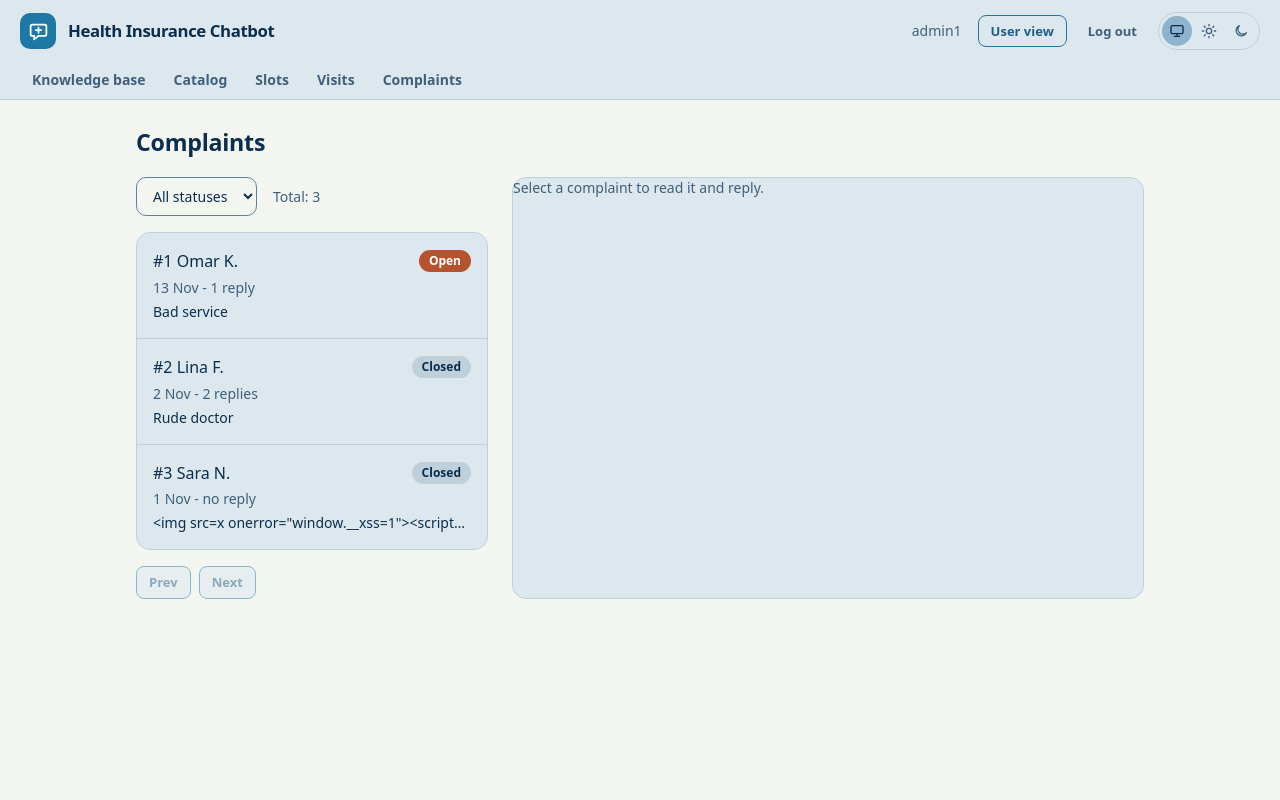
Test: AdminComplaintsPage › AP5: the detail shows the patient, the visit, the description and the reply thread
Click the button with test id "complaint-item" that starts with "Omar K.". click: click(207, 261)
box: [137, 233, 487, 338]
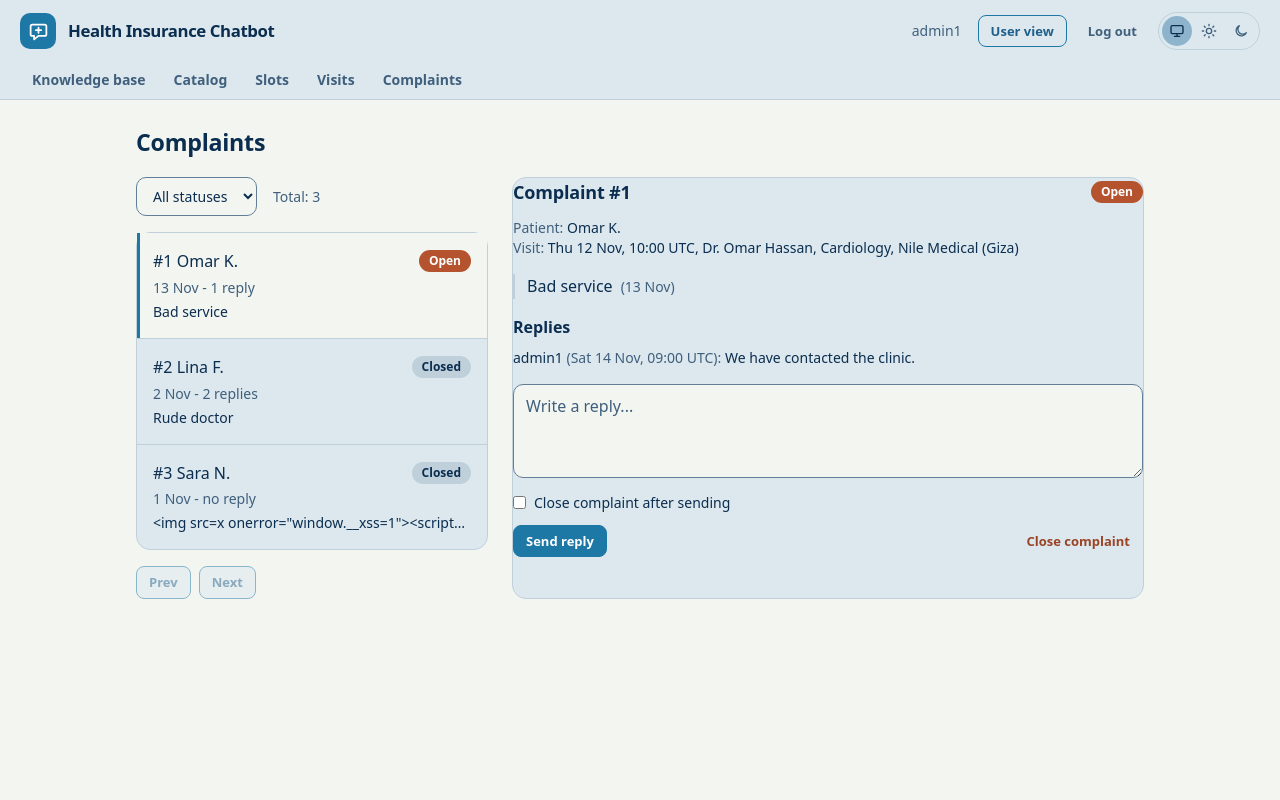
Check: the heading "Complaint #1" is shown, box [513, 178, 631, 206]
Check: the element with test id "complaint-detail" shows "Patient: Omar K.", box [512, 177, 1144, 598]
Check: the element with test id "complaint-visit" reads "Visit: Thu 12 Nov, 10:00 UTC, Dr. Omar Hassan, Cardiology, Nile Medical (Giza)", box [513, 238, 1019, 257]
